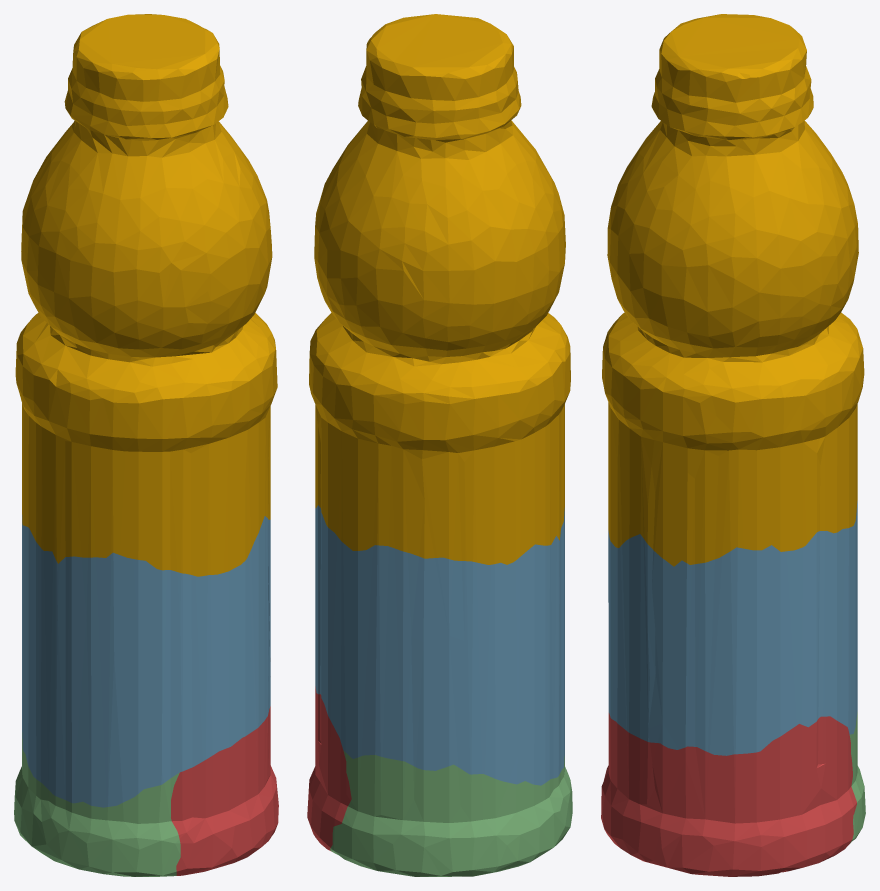
File: fractured_21_4pcs.glb
The picture shows the model from 3 angles, left to right: view 1: azimuth 30°, elevation 25°; view 2: azimuth 150°, elevation 25°; view 3: azimuth 270°, elevation 25°; orthographic projection.
Parts seen in each view (by area): view 1: piece_0.obj, piece_2.obj, piece_3.obj, piece_1.obj; view 2: piece_0.obj, piece_2.obj, piece_3.obj, piece_1.obj; view 3: piece_0.obj, piece_2.obj, piece_1.obj, piece_3.obj.
Boxes of the visible parts, left/top/right/bottom form: piece_0.obj: left=15, top=14, right=277, bottom=576; piece_2.obj: left=22, top=515, right=270, bottom=807; piece_3.obj: left=14, top=732, right=180, bottom=876; piece_1.obj: left=171, top=706, right=278, bottom=875; piece_0.obj: left=309, top=14, right=570, bottom=564; piece_2.obj: left=315, top=505, right=564, bottom=785; piece_3.obj: left=330, top=750, right=572, bottom=876; piece_1.obj: left=307, top=686, right=351, bottom=851; piece_0.obj: left=602, top=14, right=864, bottom=566; piece_2.obj: left=608, top=501, right=857, bottom=755; piece_1.obj: left=601, top=713, right=856, bottom=876; piece_3.obj: left=849, top=712, right=865, bottom=843.
Size of the model in its own units: 0.3065 by 1 by 0.3062.
